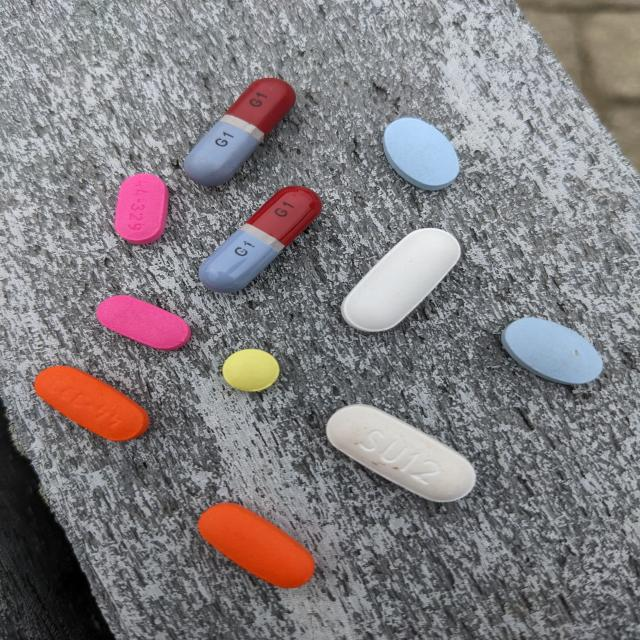non-organic waste: (324, 402, 478, 503), (197, 185, 323, 294), (340, 226, 462, 334), (182, 76, 298, 188), (197, 502, 316, 589), (34, 365, 150, 442), (499, 316, 604, 386), (382, 116, 461, 192), (95, 294, 192, 351), (114, 172, 170, 245), (222, 348, 281, 392)
